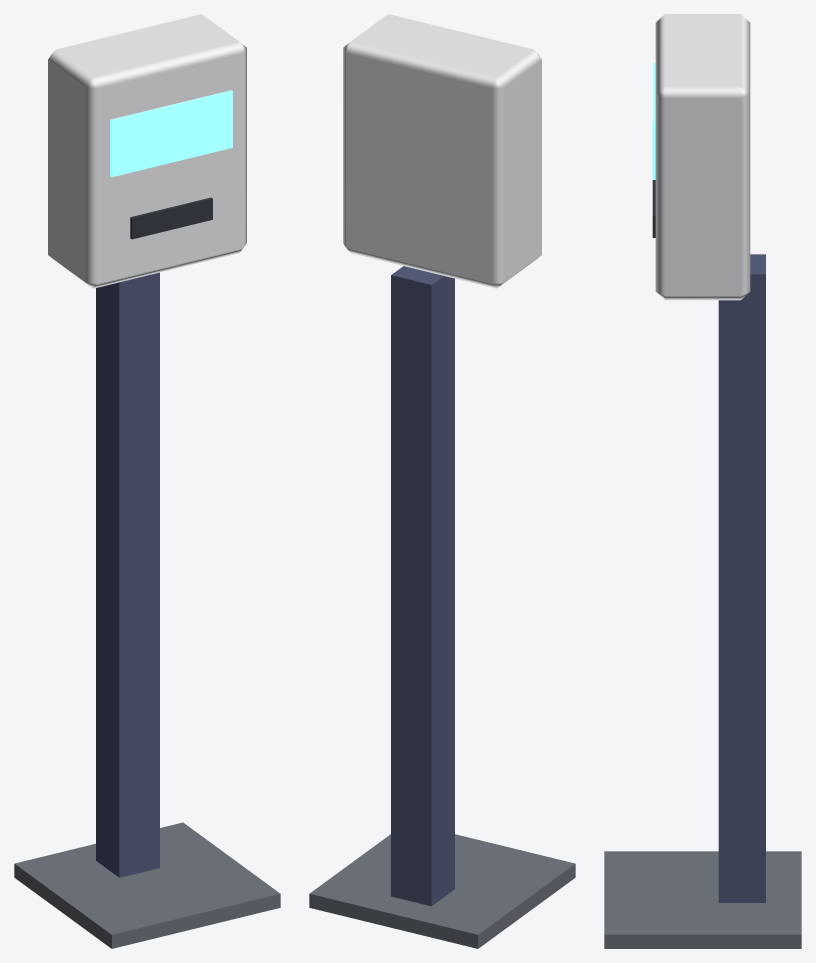
The model's file is station_intake_ausstattung_3_1.glb.
The picture shows the model from 3 angles, left to right: view 1: azimuth 30°, elevation 25°; view 2: azimuth 150°, elevation 25°; view 3: azimuth 270°, elevation 25°; orthographic projection.
Visible parts, largest first — view 1: station_intake_ausstattung_3_1; view 2: station_intake_ausstattung_3_1; view 3: station_intake_ausstattung_3_1.
Boxes of the visible parts, x1,y1,x2,y2 form: station_intake_ausstattung_3_1: [14, 14, 280, 948]; station_intake_ausstattung_3_1: [309, 14, 575, 948]; station_intake_ausstattung_3_1: [604, 14, 801, 948].
Bounding box in the file's own units: 0.25 × 1.2 × 0.25.
